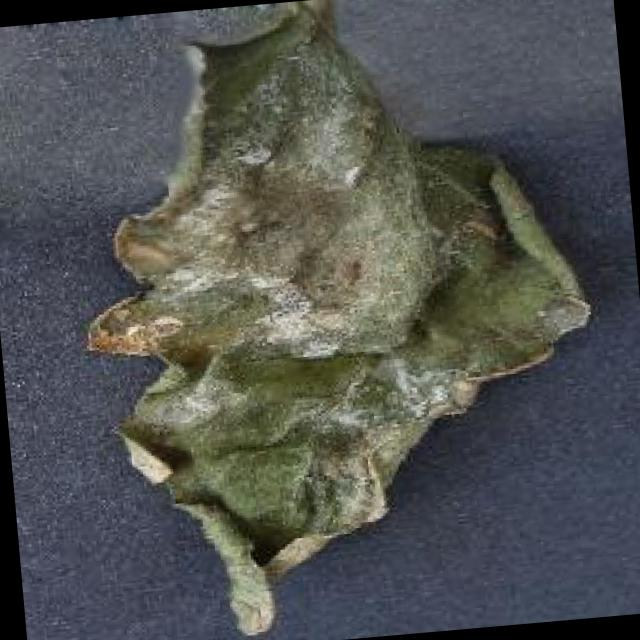Tomato_Late_Blight: (71, 32, 607, 640)
